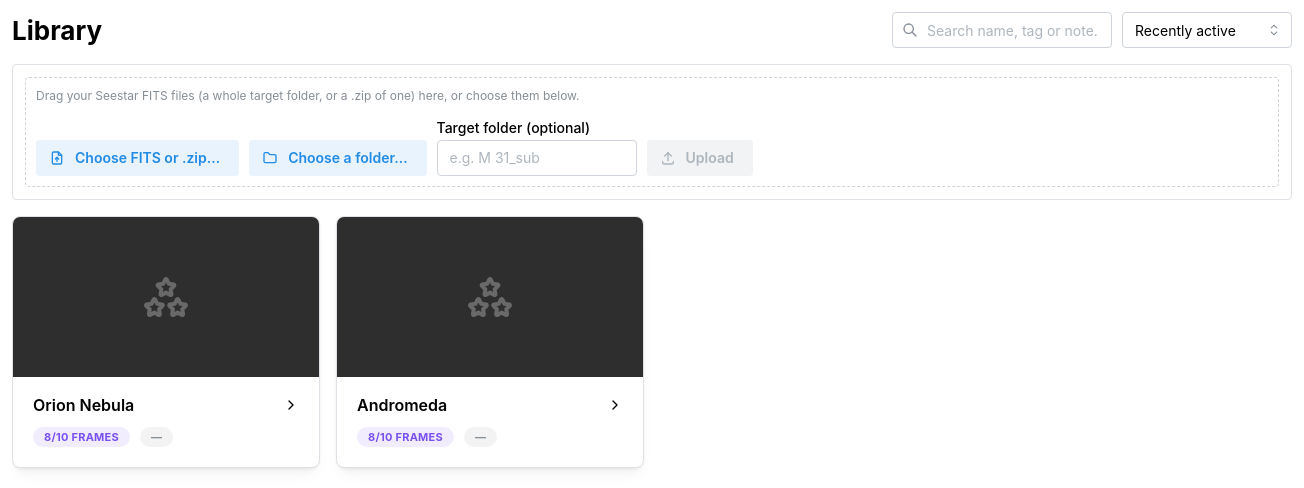
Test: Library › matches the search against a target's notes
Expected: the text "Orion Nebula" is shown, [33, 393, 134, 417]
Type "hazy" into the field with placeholder "Search name, tag or note…".
click(1002, 30); type("hazy")  # box [892, 12, 1112, 48]
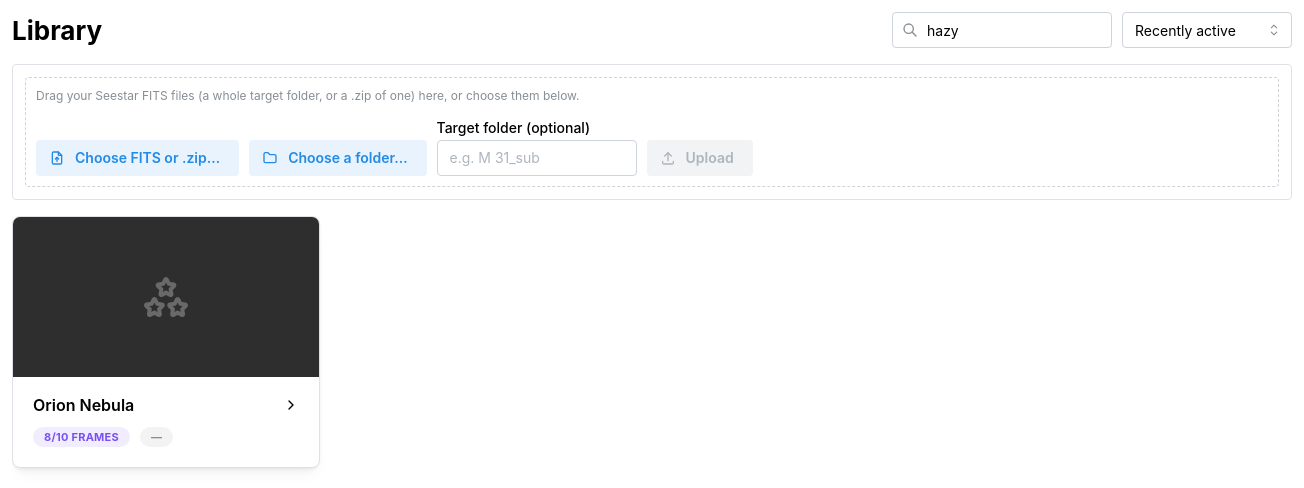
Expected: the text "Orion Nebula" is shown, [33, 393, 134, 417]
Now the link "Andromeda" is gone
